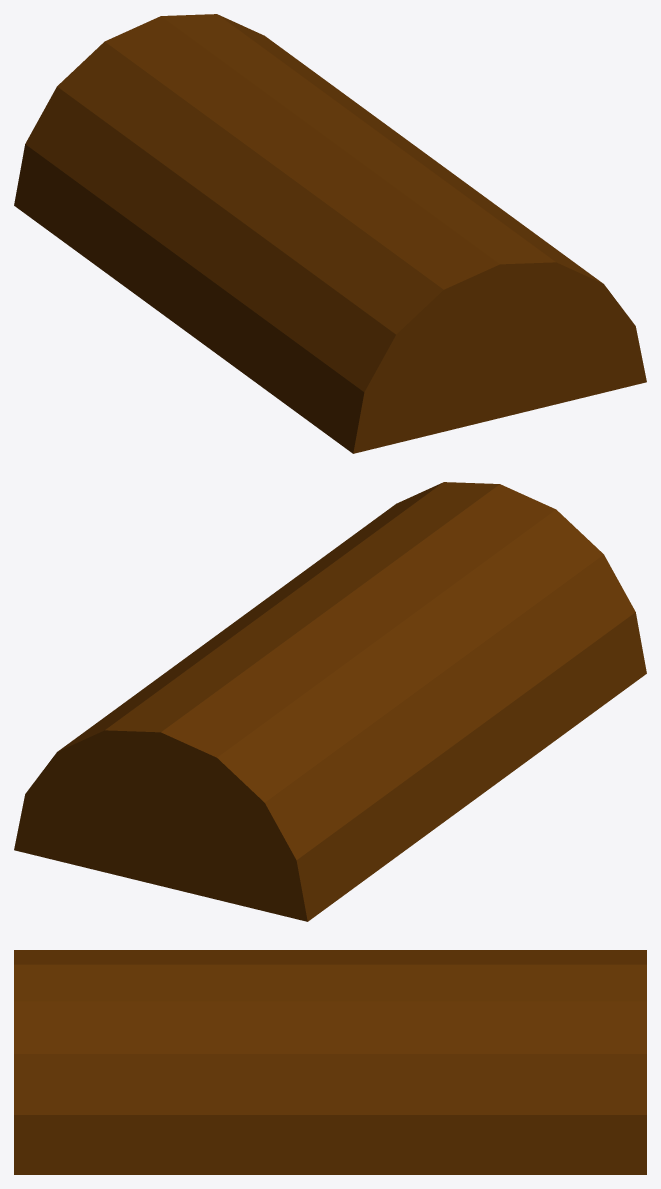
Rendered from Tronc.glb.
3 renders of one model, top to bottom at view 1: azimuth 30°, elevation 25°; view 2: azimuth 150°, elevation 25°; view 3: azimuth 270°, elevation 25°, orthographic. The views are drawn at different scales.
Parts seen in each view (by area): view 1: Cylinder; view 2: Cylinder; view 3: Cylinder.
Part boxes in pixels (x1,y1,x2,y2): Cylinder: [14, 14, 646, 453]; Cylinder: [14, 482, 646, 921]; Cylinder: [14, 950, 646, 1174].
Bounding box in the file's own units: 2 × 1 × 4.
